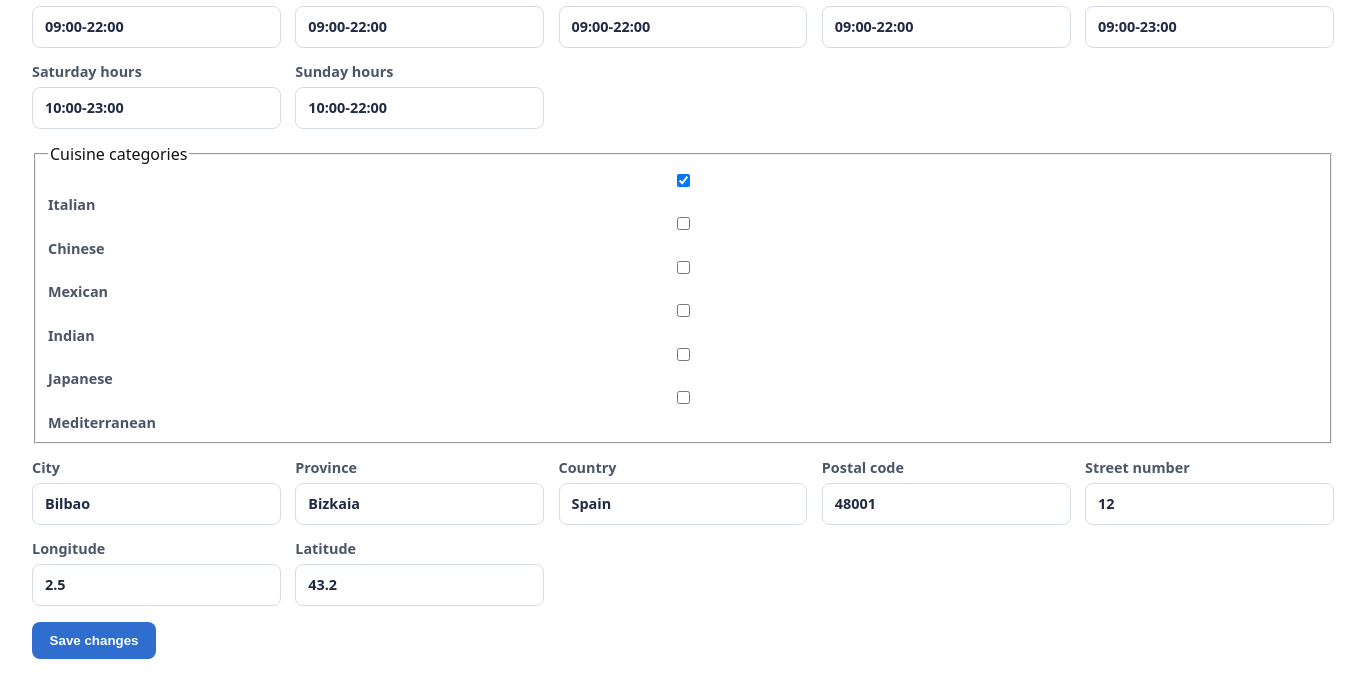
Test case: RestaurantInformationPage › shows a save error when update fails
This screenshot has width=1366, height=691.
(page scrolled)
Step 1. Click the button "Save changes" → (94, 640), box 32,622 -> 156,659
(page scrolled)
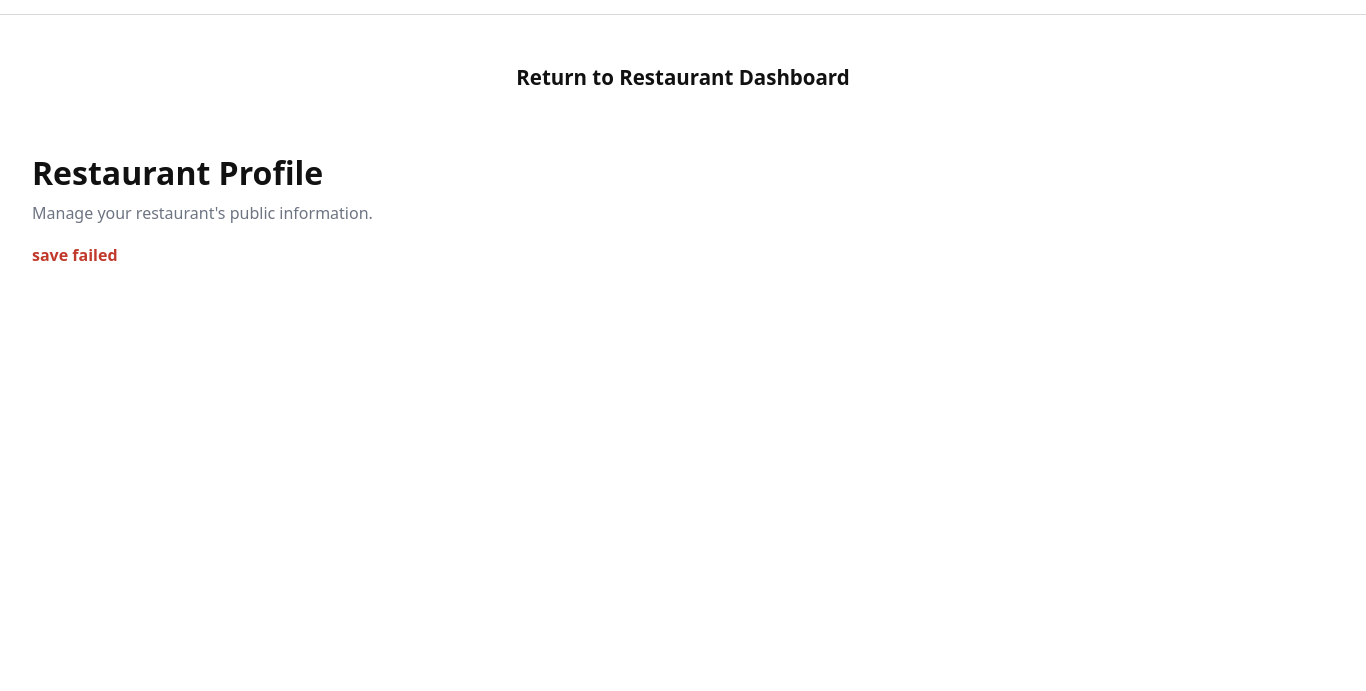
Check: the text "save failed" is shown, box 32,244 -> 118,266
